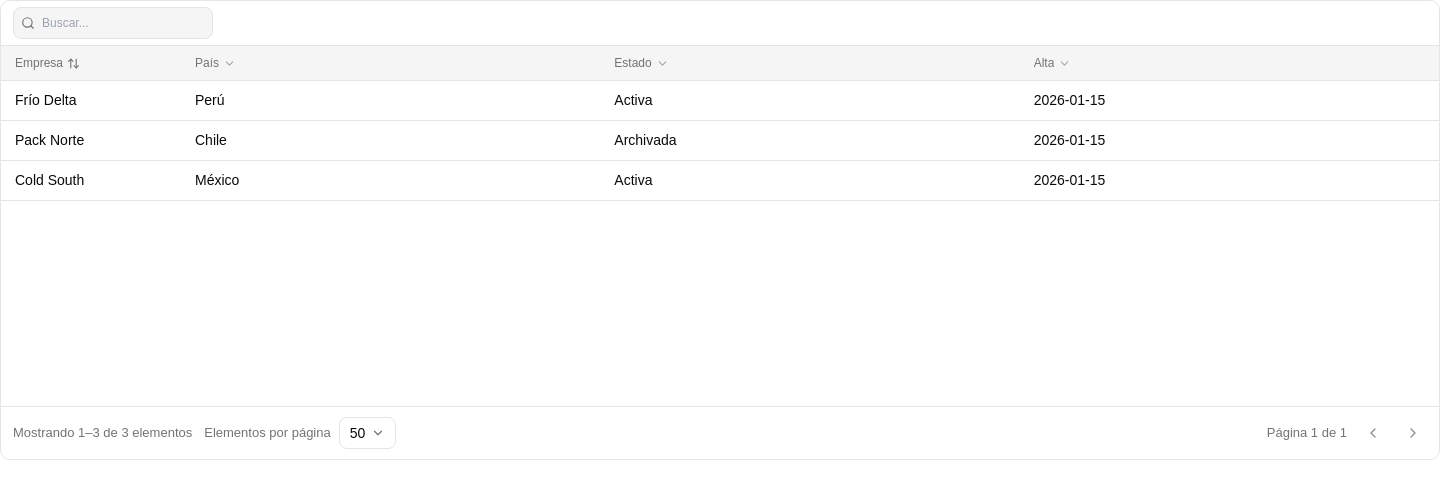
Test: on desktop the date menu keeps its size when the Mayor que (fecha posterior) inputs arrive
Click the button "Alta" at (1044,63), box 1034,54 -> 1425,72
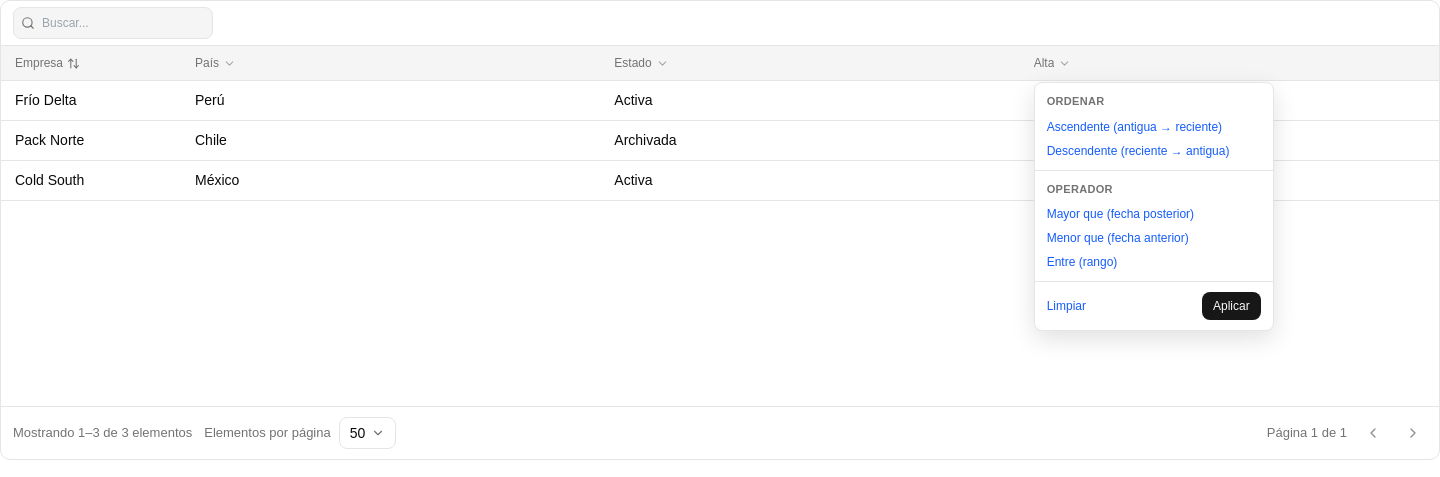
Click the button "Mayor que (fecha posterior)" at (1154,214), box 1047,205 -> 1261,223
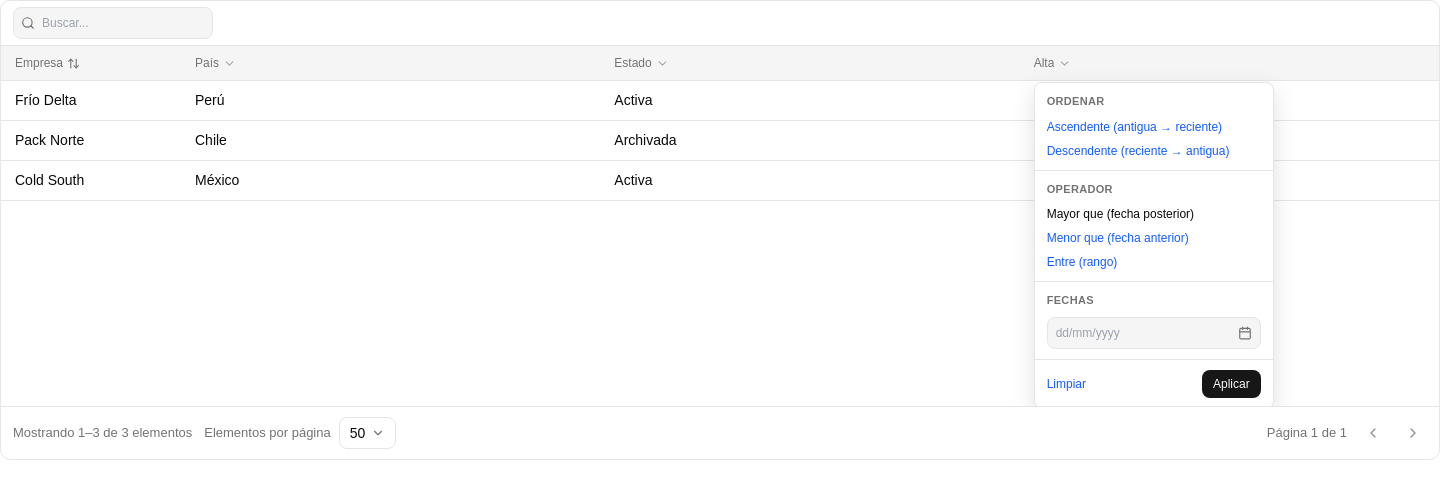
Expected: the button named "Seleccionar fecha" is shown, 1233,320 -> 1257,344
